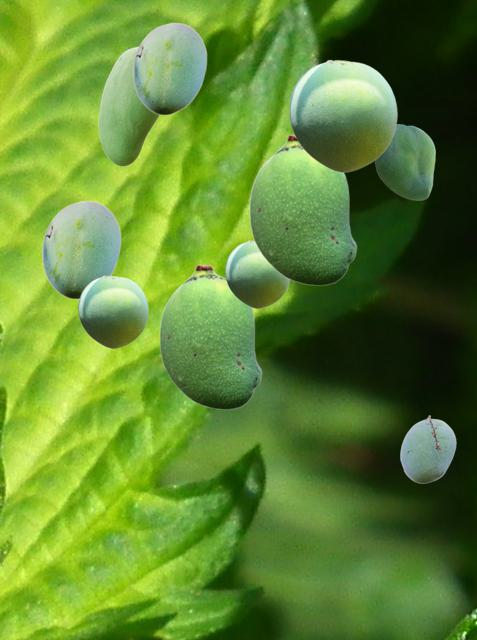green_mango: (249, 134, 356, 285), (159, 264, 261, 409), (289, 59, 396, 171), (41, 200, 120, 298), (98, 46, 160, 165), (132, 22, 206, 114), (78, 275, 147, 347), (374, 124, 434, 199), (225, 240, 289, 307), (400, 415, 455, 482)
